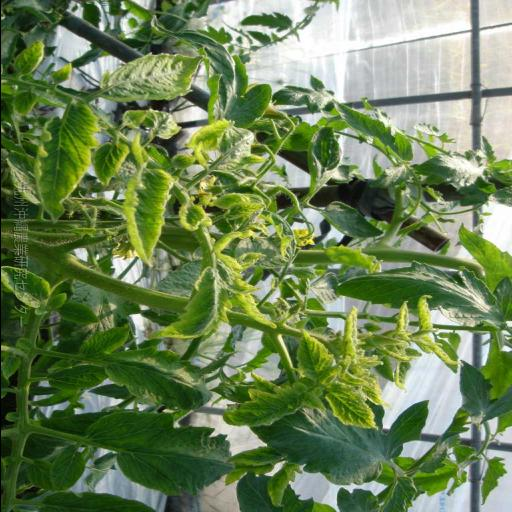Yellow Leaf Curl Virus: (337, 293, 463, 407), (32, 101, 98, 225), (90, 49, 212, 105), (122, 159, 174, 273), (152, 273, 234, 345), (223, 382, 313, 430), (0, 254, 54, 316), (318, 386, 382, 432), (286, 334, 336, 382), (182, 118, 236, 156), (178, 194, 206, 234)
